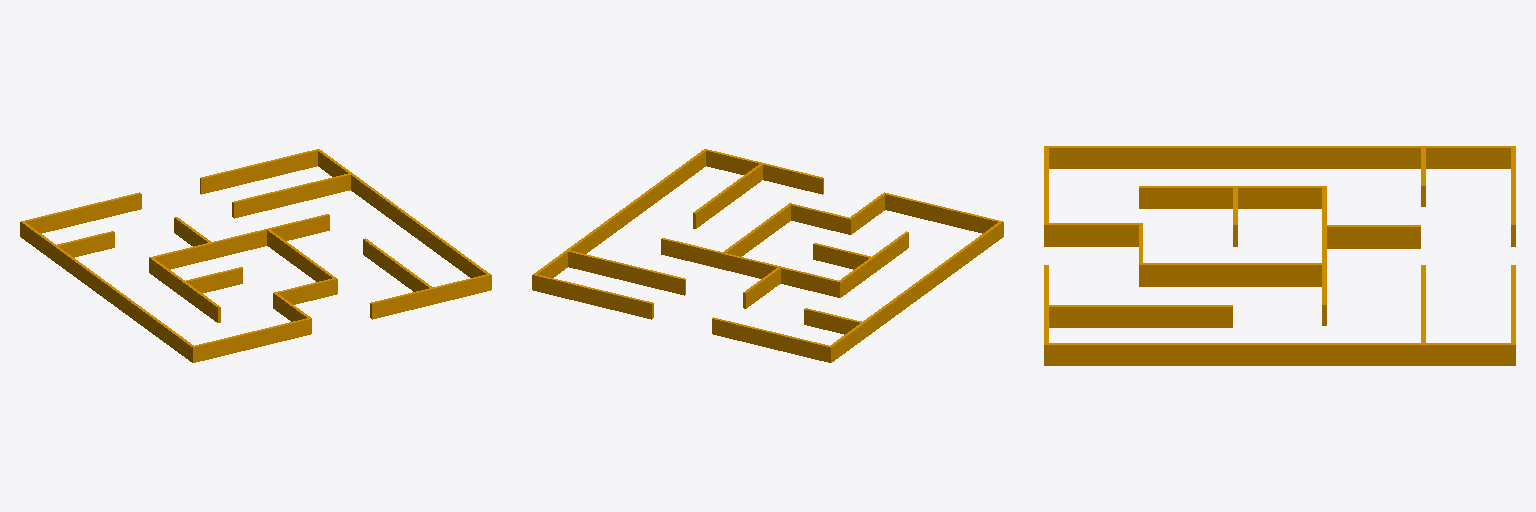
robot.urdf — plane:
<?xml version="1.0" encoding="UTF-8"?>
<robot name = "plane" xmlns:xacro="http://www.ros.org/wiki/xacro">
  <link name="base_link">
    <visual>
      <geometry>
        <mesh filename="resources/meshes/maze_small.stl"/>
      </geometry>
    </visual>
  </link>
</robot>

--- Facts derived from the render (not from the file) ---
The picture shows the robot from 3 angles, left to right: view 1: azimuth 30°, elevation 25°; view 2: azimuth 150°, elevation 25°; view 3: azimuth 270°, elevation 25°; orthographic projection.
Robot: plane — 1 links, 0 joints (none); root link base_link; default pose: all joints at 0.
Visible links, largest first — view 1: base_link; view 2: base_link; view 3: base_link.
Boxes of the visible links, bbox=[...] form: base_link: bbox=[20, 149, 491, 362]; base_link: bbox=[532, 149, 1003, 362]; base_link: bbox=[1044, 146, 1515, 365].
Size in the robot's own frame: 10 by 10 by 0.5 metres.
1 mesh visuals loaded from 1 distinct referenced files (1 binary STL).